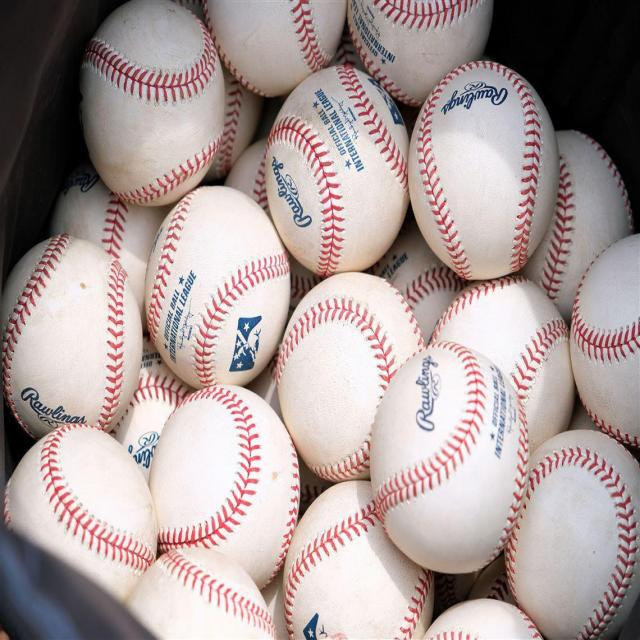baseball: (368, 336, 532, 576), (407, 55, 561, 277), (275, 270, 423, 478), (145, 184, 292, 389), (263, 66, 408, 273), (150, 383, 298, 582), (82, 1, 225, 202), (3, 234, 144, 435), (4, 421, 158, 604), (506, 424, 626, 637), (282, 478, 432, 638)
